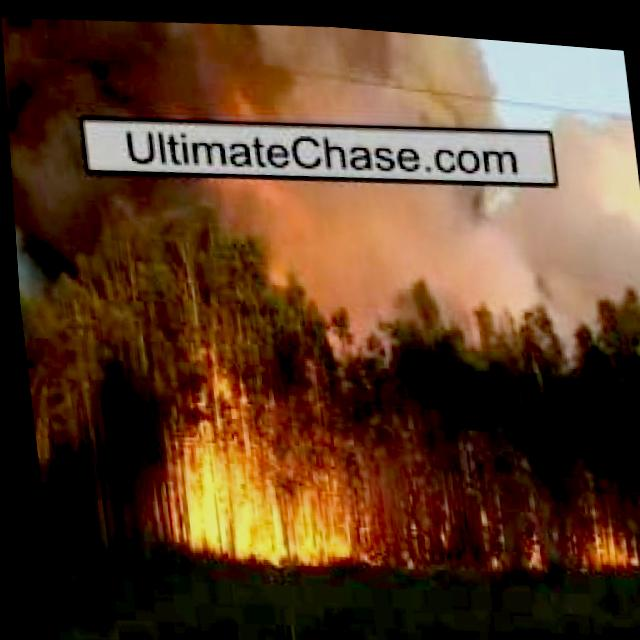Fire: (149, 404, 369, 575), (468, 501, 542, 568), (574, 504, 640, 562)
Smoke: (244, 149, 640, 335), (0, 0, 510, 143)
